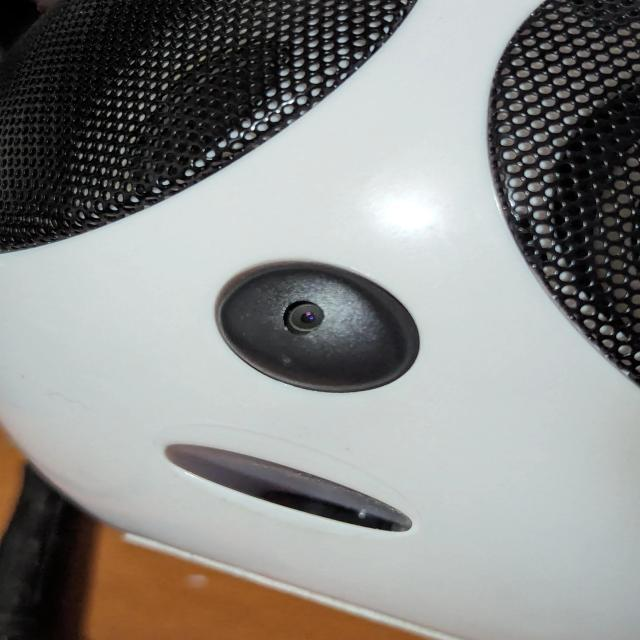hidden camera: (274, 290, 333, 343)
